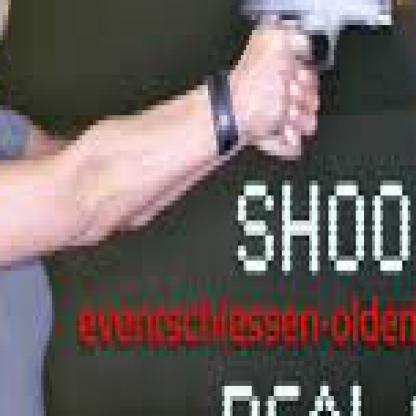gun: (192, 216, 413, 411)
